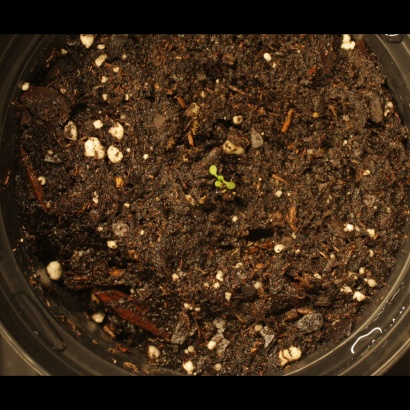leaf: (198, 154, 221, 177), (227, 181, 250, 204), (202, 181, 225, 204)
